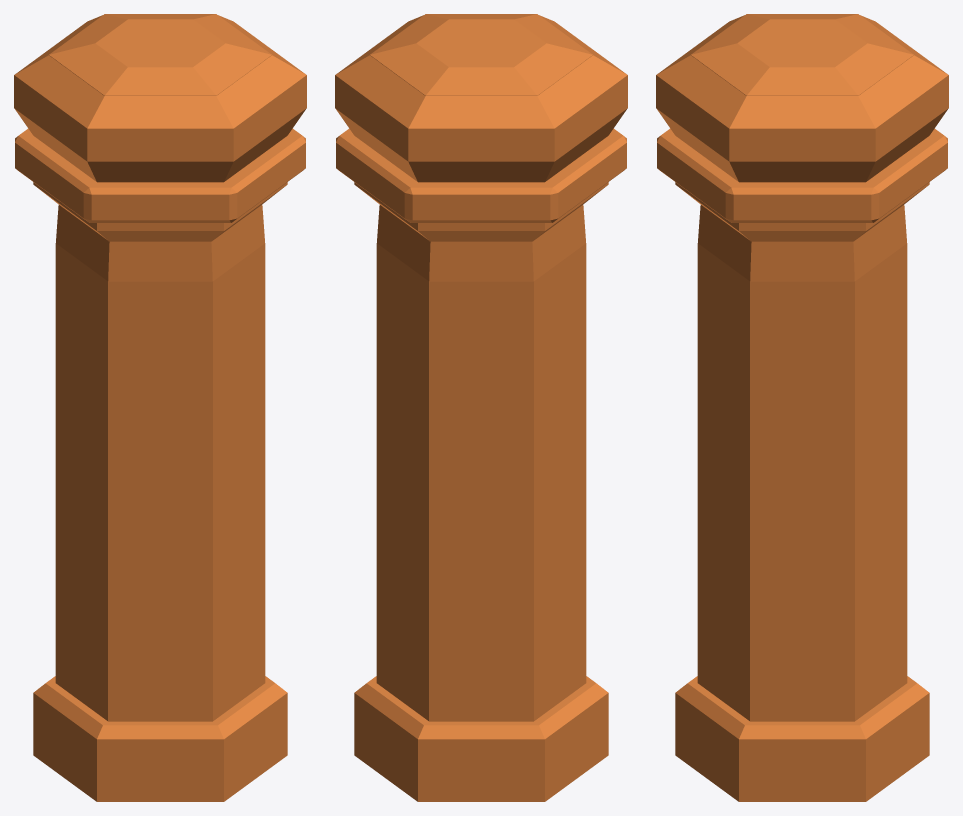
The model's file is Pillar Better.fbx.
The picture shows the model from 3 angles, left to right: view 1: azimuth 30°, elevation 25°; view 2: azimuth 150°, elevation 25°; view 3: azimuth 270°, elevation 25°; orthographic projection.
Parts seen in each view (by area): view 1: Circle; view 2: Circle; view 3: Circle.
Boxes of the visible parts, x1,y1,x2,y2 form: Circle: [14, 14, 306, 801]; Circle: [335, 14, 627, 801]; Circle: [656, 14, 948, 801].
Bounding box in the file's own units: 202 × 618 × 230.
